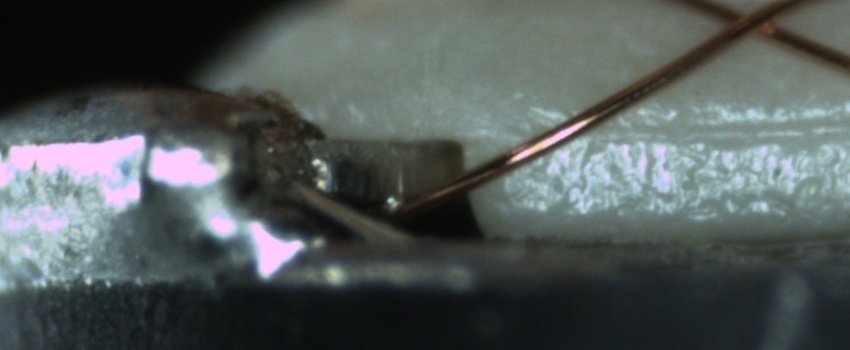CL: (714, 1, 799, 45)
DL: (543, 98, 849, 173)
